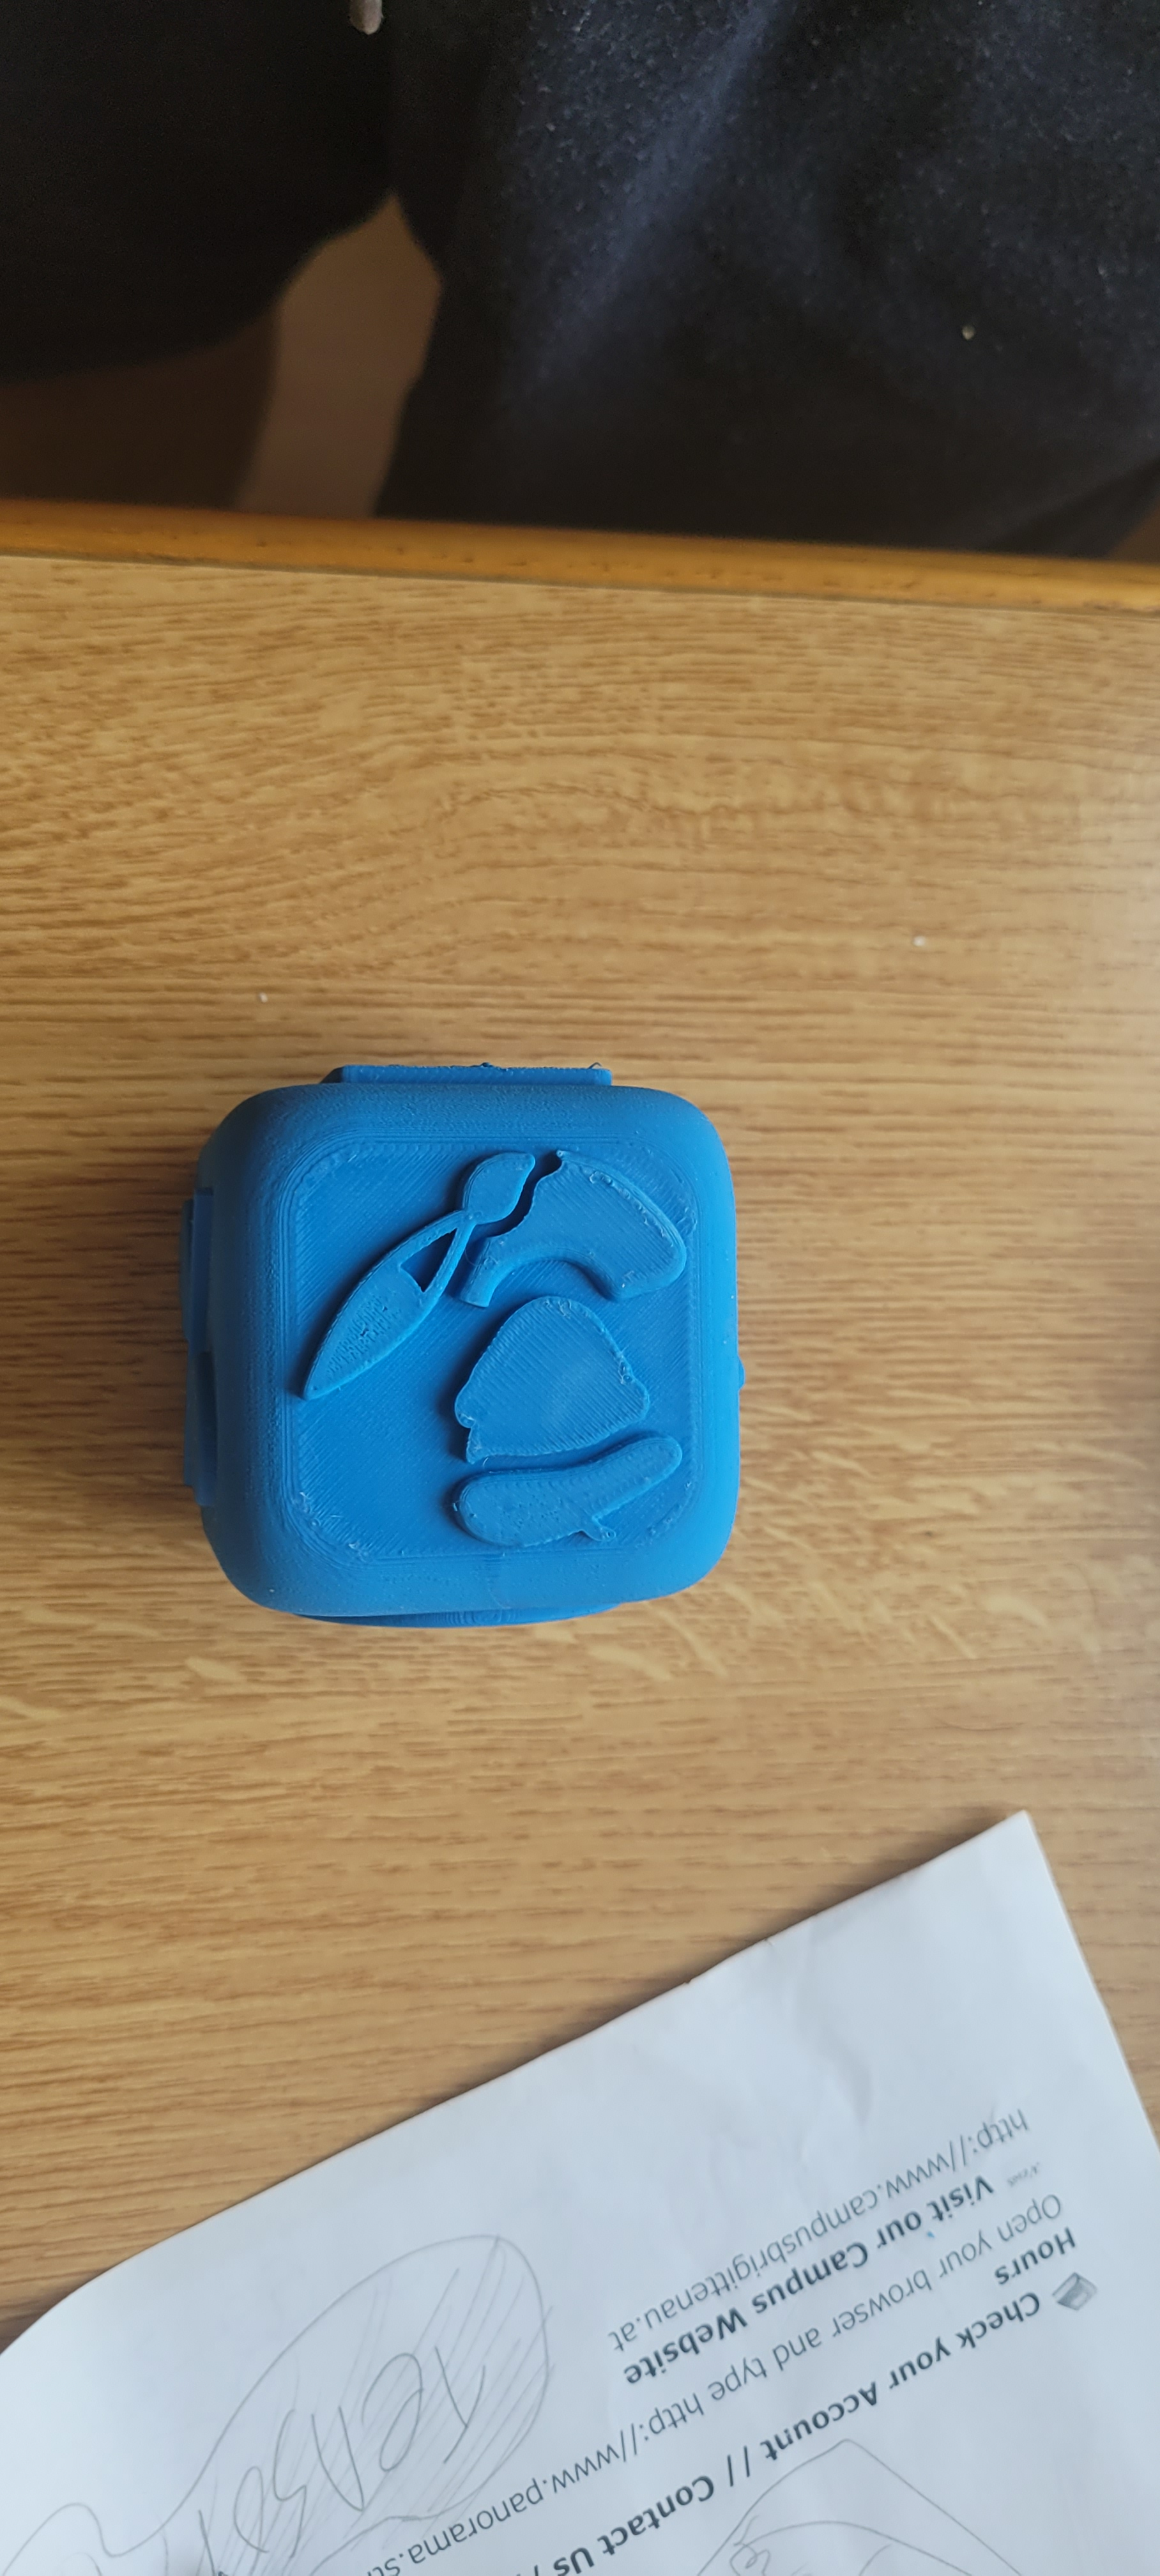Artist_Info: (233, 1033, 792, 1630)
